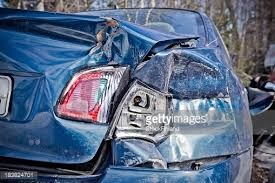Dent: (77, 81, 180, 137)
Smashed: (6, 16, 234, 169)
